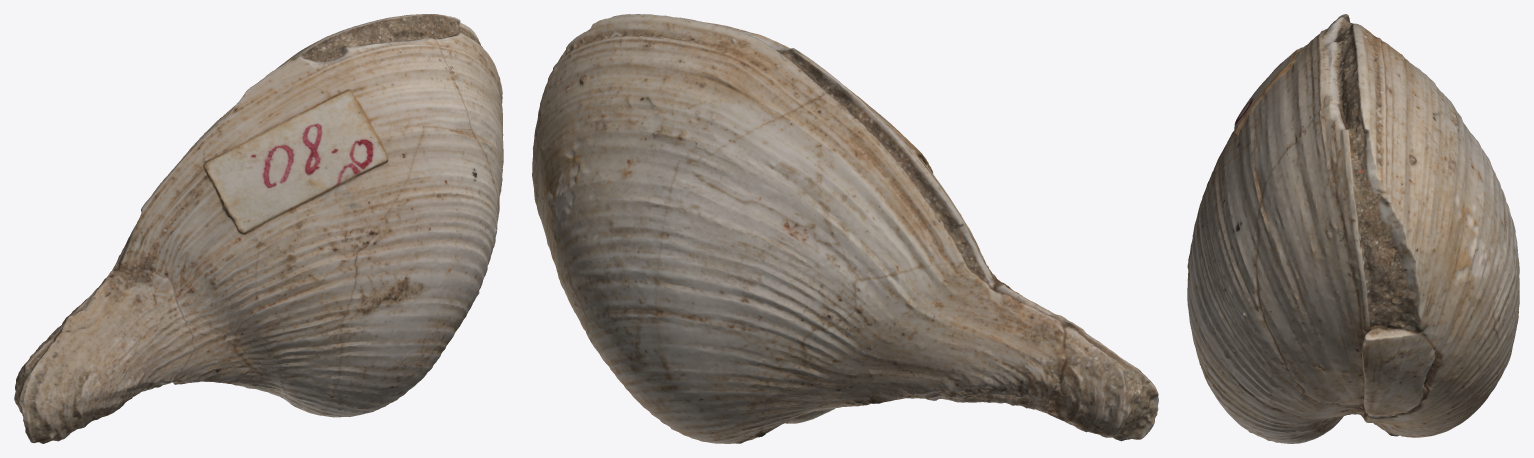
Rendered from EWS0014119.glb.
3 views of the same model, side by side, from view 1: azimuth 30°, elevation 25°; view 2: azimuth 150°, elevation 25°; view 3: azimuth 270°, elevation 25° (orthographic). The views are drawn at different scales.
Parts seen in each view (by area): view 1: input; view 2: input; view 3: input.
Boxes of the visible parts, x1,y1,x2,y2 form: input: [14, 14, 503, 443]; input: [532, 14, 1158, 443]; input: [1187, 14, 1519, 443].
Bounding box in the file's own units: 0.0333 × 0.0222 × 0.0159.
Materials: 1 (1 with a texture image).
